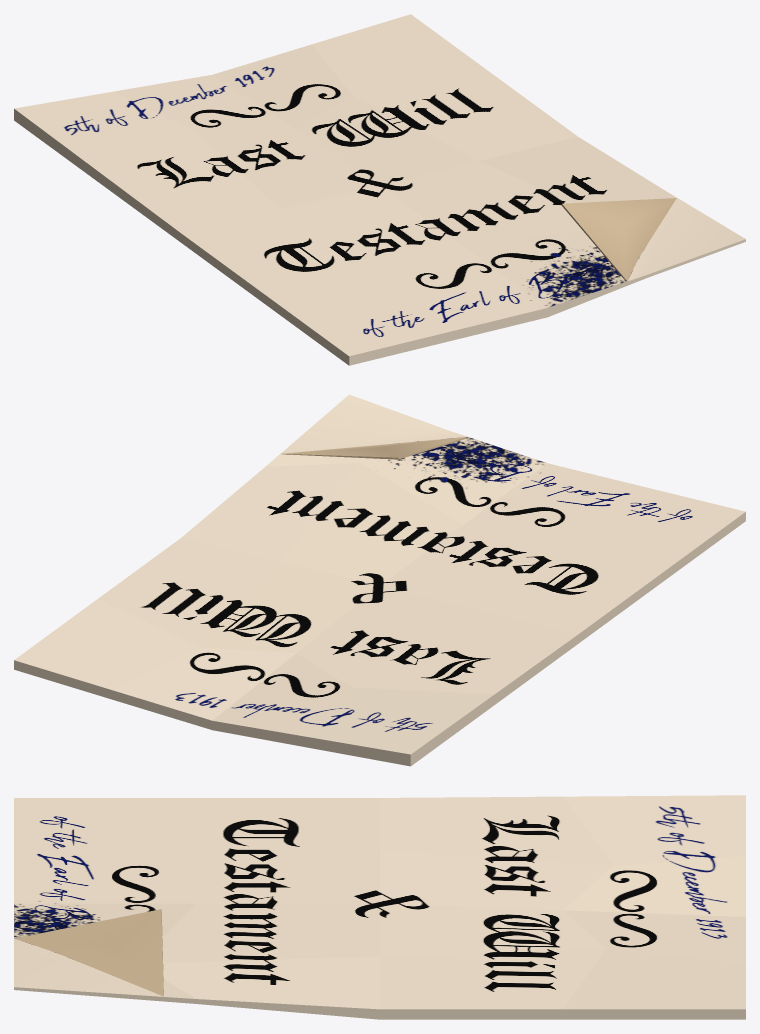
File: will.fbx
3 views of the same model, one above another, from view 1: azimuth 30°, elevation 25°; view 2: azimuth 150°, elevation 25°; view 3: azimuth 270°, elevation 25° (orthographic). The views are drawn at different scales.
Parts seen in each view (by area): view 1: will; view 2: will; view 3: will.
Boxes of the visible parts, <box> form: will: <box>14,14,745,365</box>; will: <box>14,394,745,766</box>; will: <box>14,795,745,1019</box>.
Size of the model in its own units: 1.01 by 0.1373 by 1.47.
Materials: 1 (1 with a texture image).
